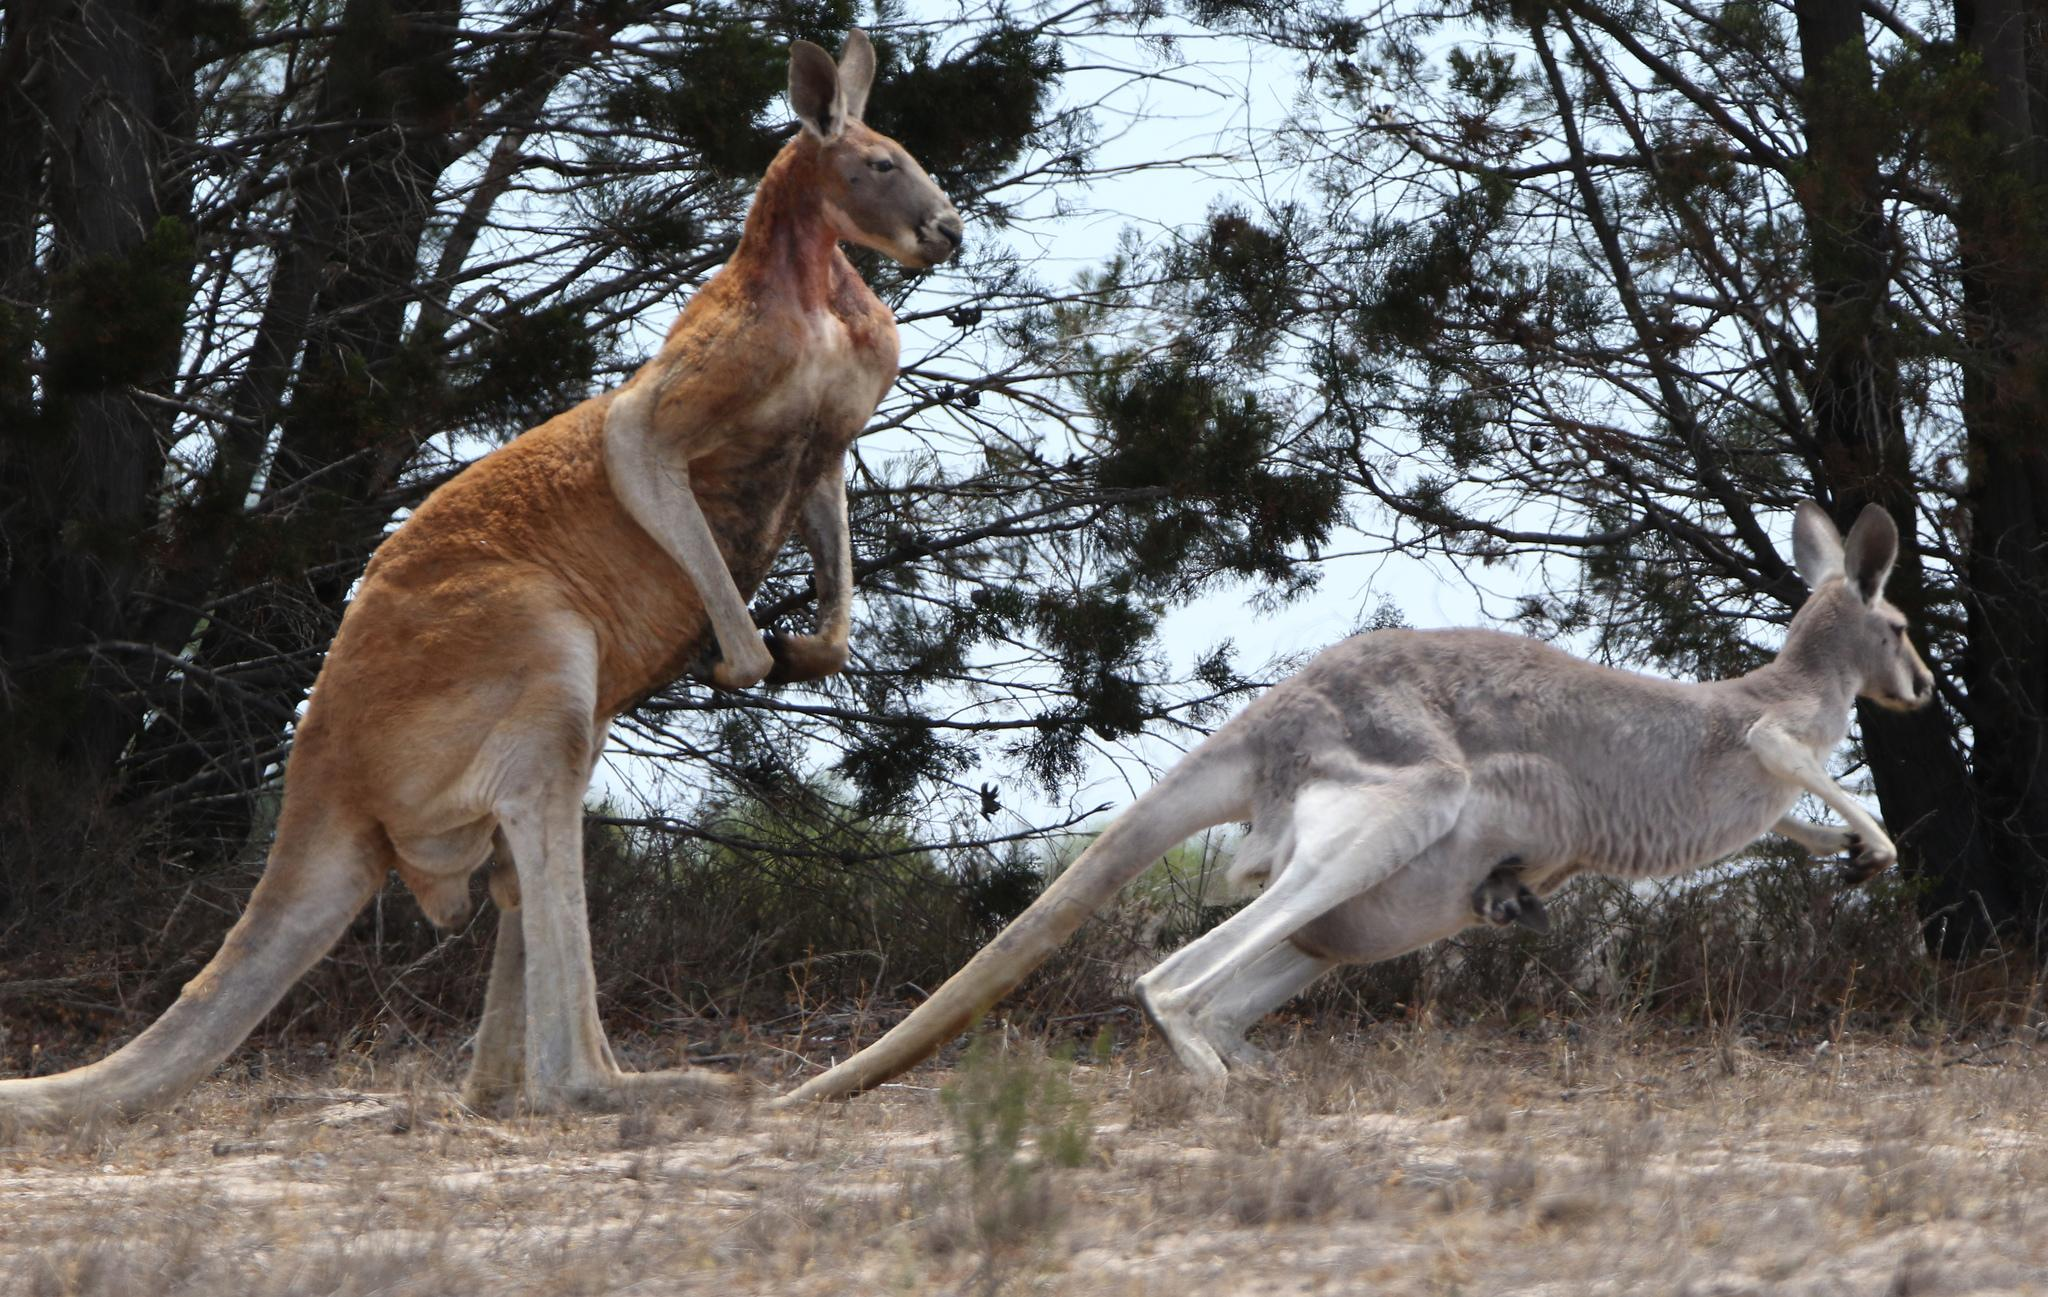Eastern grey kangaroo: (724, 500, 1944, 1124)
Red kangaroo: (0, 25, 967, 1158)
